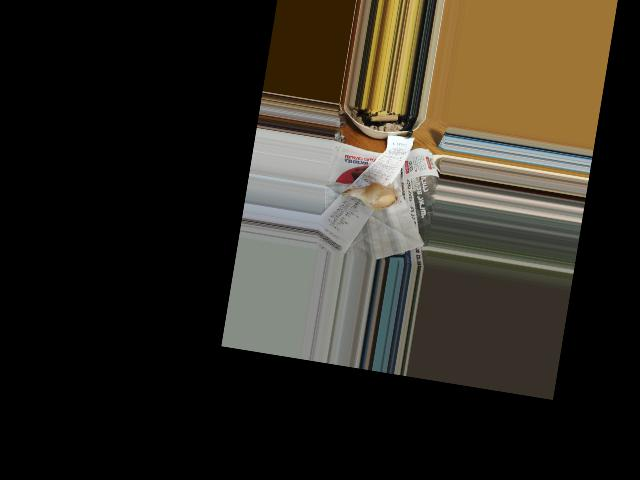onion: (359, 182, 398, 209)
